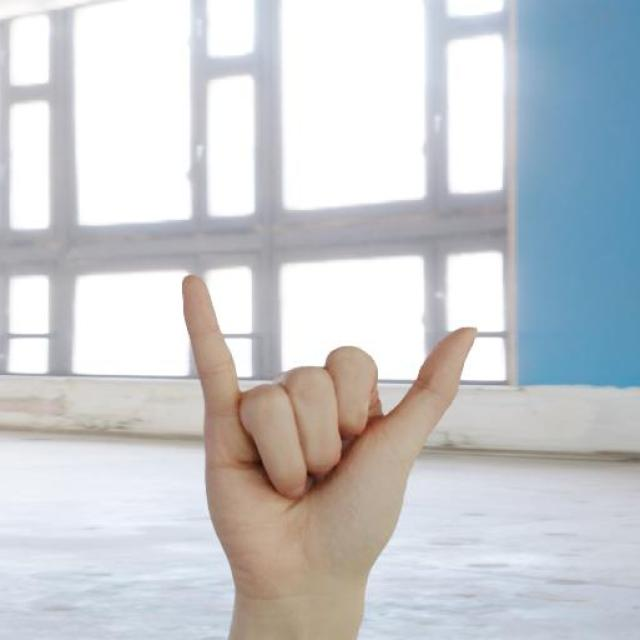Y: (161, 250, 513, 639)
